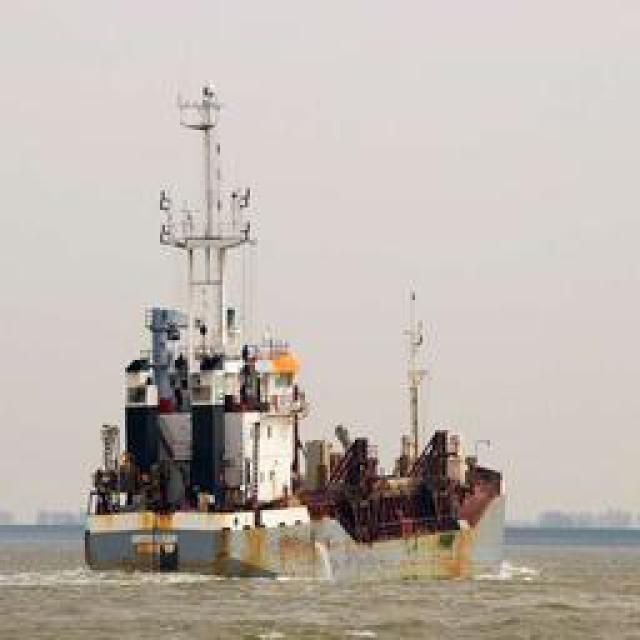Ship: (85, 280, 323, 573)
